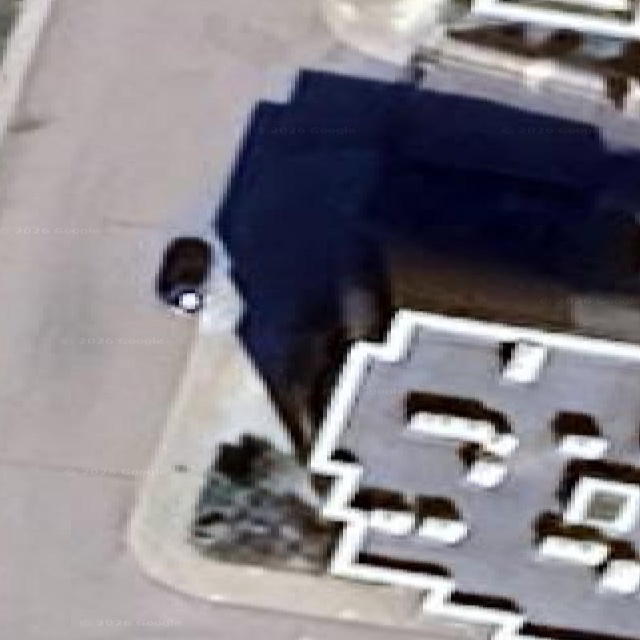car: (156, 236, 211, 312)
